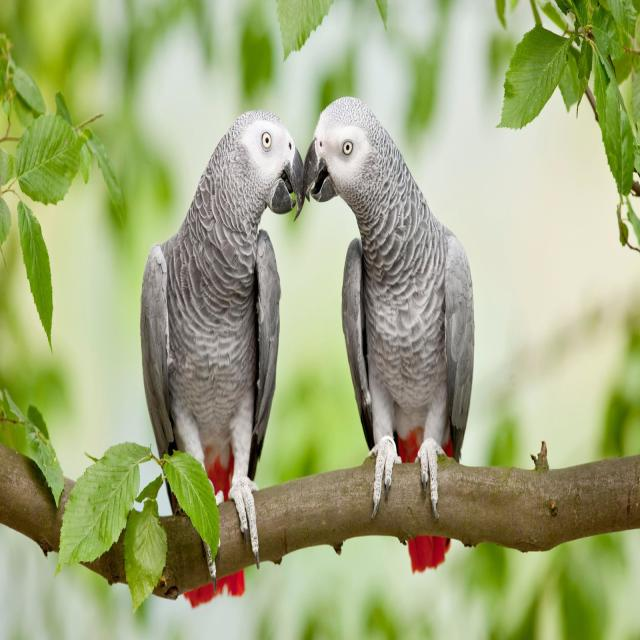Parrot: (145, 115, 308, 551), (306, 94, 476, 491)
